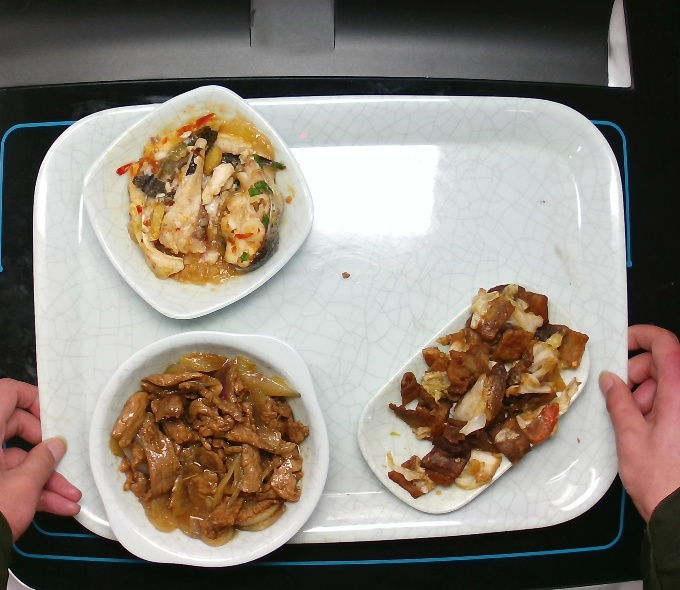wcq-DuoJiaoYuKuai: (99, 102, 298, 289)
wcq-PaoCaiRouPian: (381, 277, 593, 517)
wcq-YangCongRouPian: (104, 345, 317, 550)
